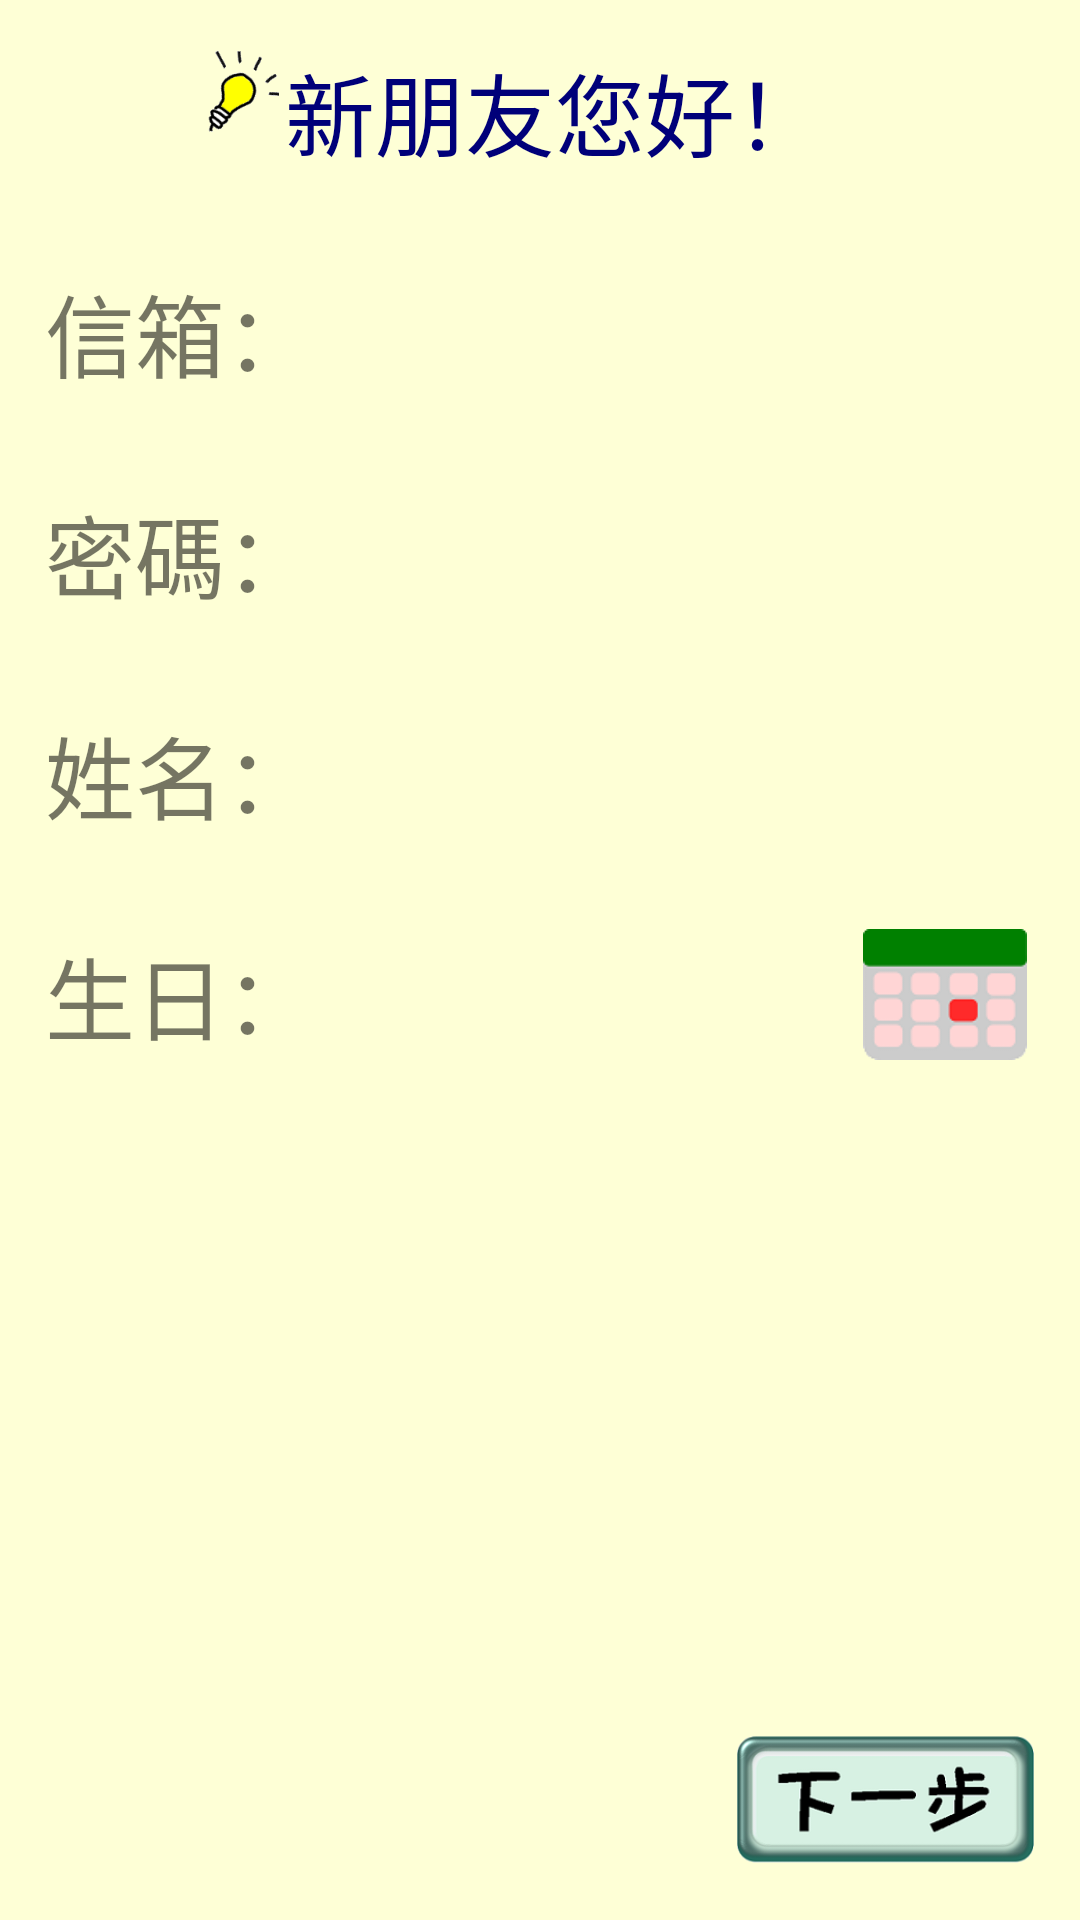

Icon bounding boxes for this 1080w x 1920h phone screenshot, format box(x1, y1, x2, y2):
calendar: box(863, 929, 1027, 1060)
